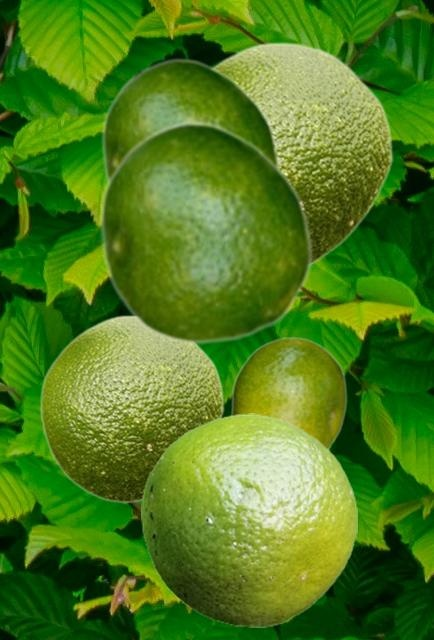calamansi: (98, 120, 313, 344), (141, 413, 356, 626), (213, 41, 392, 265), (39, 314, 223, 503), (100, 57, 280, 180), (228, 336, 346, 448)
